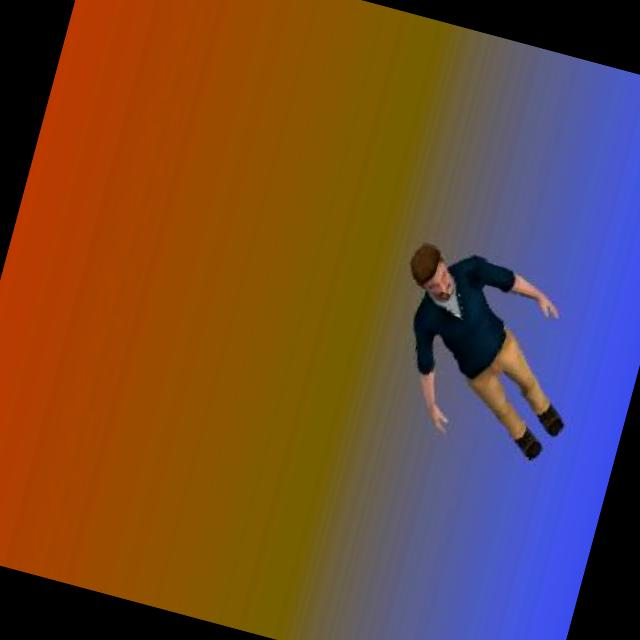Person: (362, 234, 602, 474)
